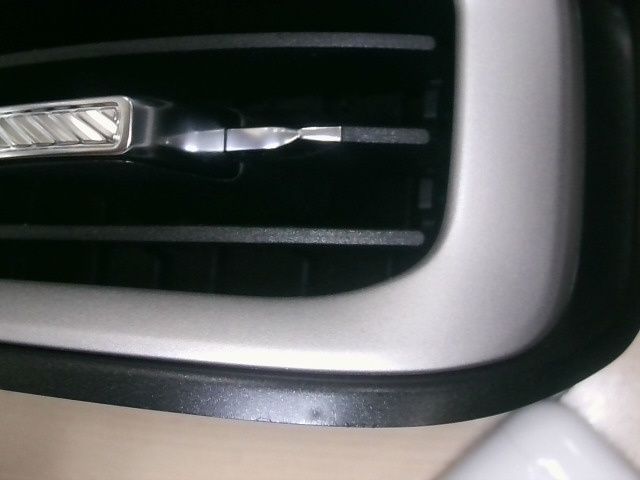NG: (319, 397, 388, 438)
